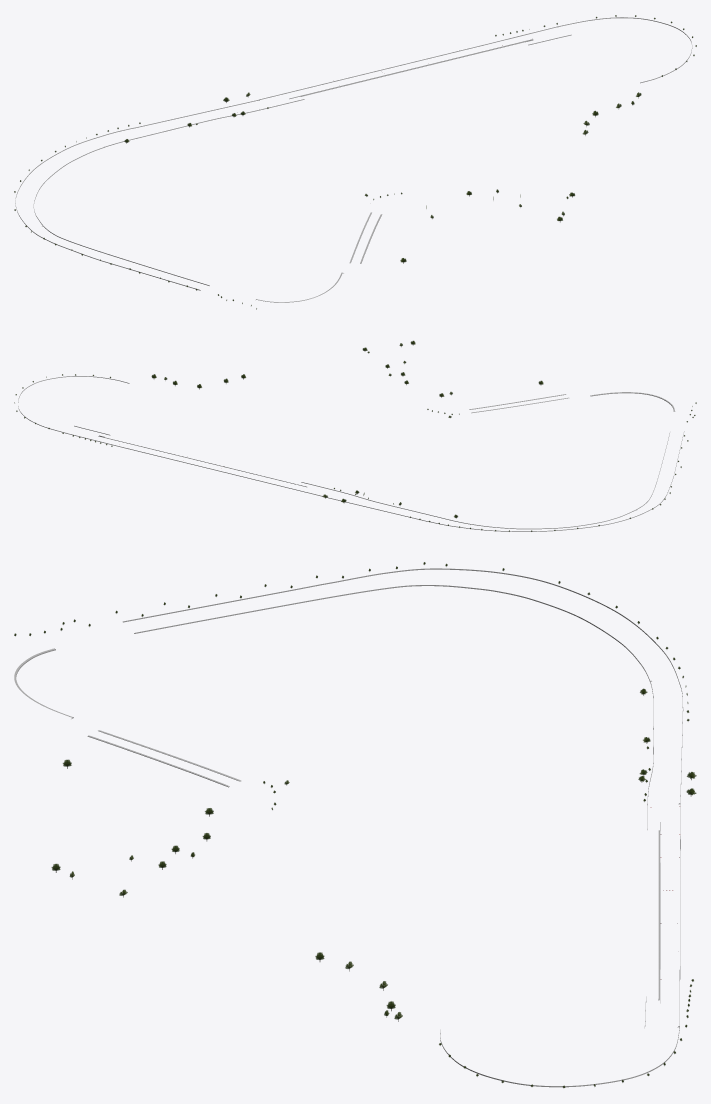
The picture shows the model from 3 angles, top to bottom: view 1: azimuth 30°, elevation 25°; view 2: azimuth 150°, elevation 25°; view 3: azimuth 270°, elevation 25°; orthographic projection. The views are drawn at different scales.
Visible parts, largest first — view 1: highspeedring2_2; view 2: highspeedring2_2; view 3: highspeedring2_2.
Part boxes in pixels (x1,y1,x2,y2): highspeedring2_2: (14, 15, 696, 309); highspeedring2_2: (14, 340, 696, 531); highspeedring2_2: (14, 562, 696, 1087).
Size of the model in its own units: 1516 by 29.53 by 836.
Materials: 4 (4 with a texture image).
